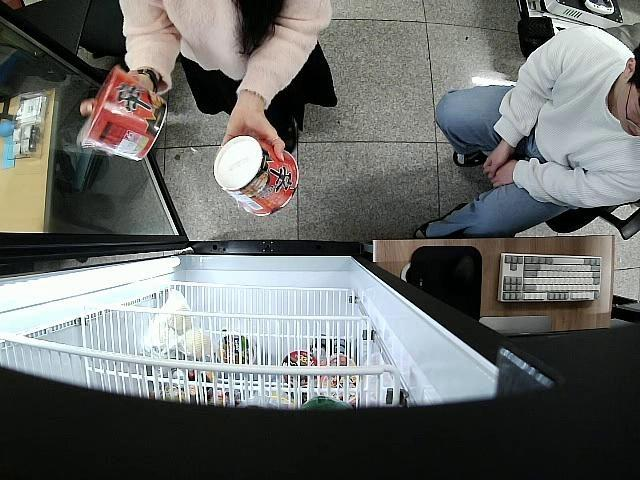01_ShinRamen_L: (75, 66, 168, 163), (214, 138, 299, 218)
